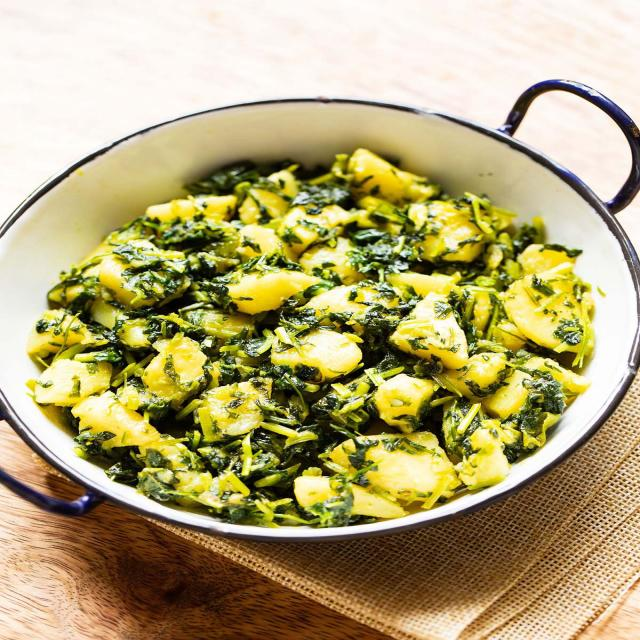Aloo Methi: (28, 141, 598, 525)
